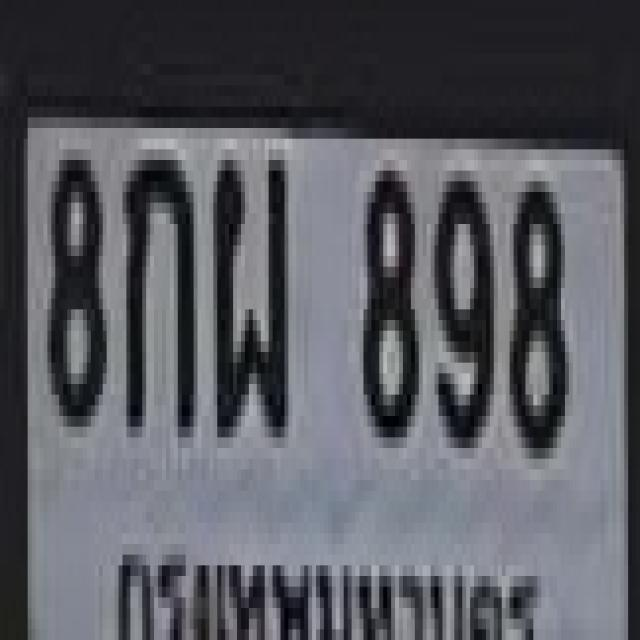8: (43, 149, 103, 416), (506, 171, 561, 448), (359, 160, 415, 427)
9: (430, 160, 490, 437)
A01: (122, 149, 190, 427)
A28: (210, 149, 284, 427)
